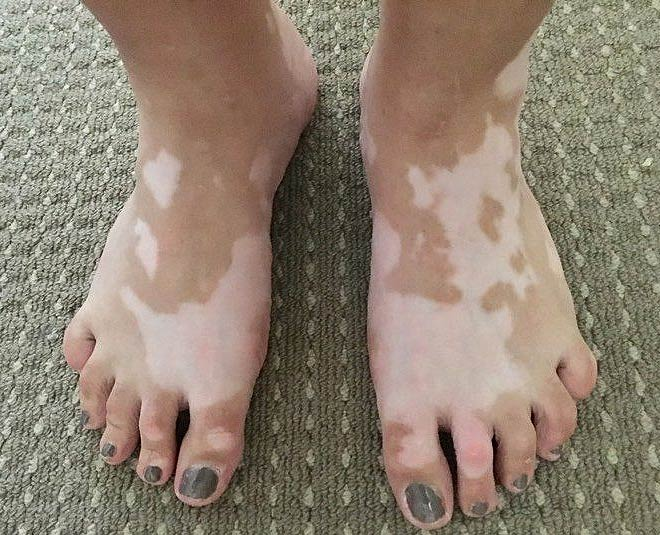vitiligo: (370, 148, 579, 475), (112, 131, 269, 424)
